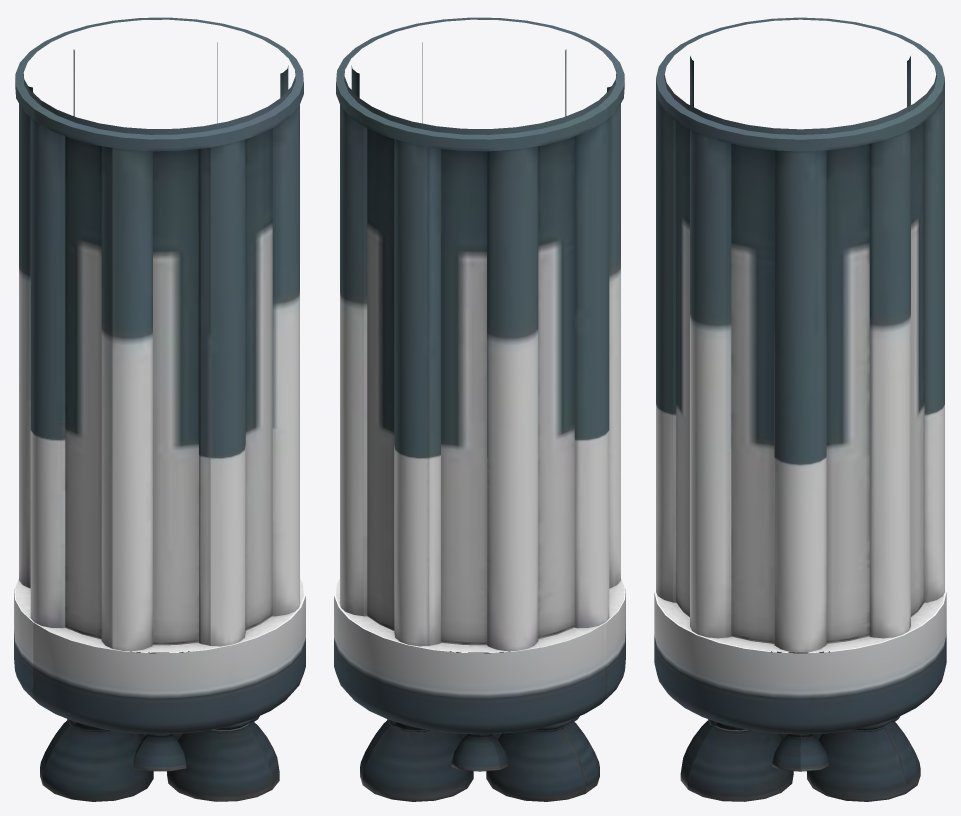
3 views of the same model, side by side, from view 1: azimuth 30°, elevation 25°; view 2: azimuth 150°, elevation 25°; view 3: azimuth 270°, elevation 25° (orthographic).
Parts seen in each view (by area): view 1: body0_model0_lod0_mesh1, body0_model0_lod0_mesh0; view 2: body0_model0_lod0_mesh1, body0_model0_lod0_mesh0; view 3: body0_model0_lod0_mesh1, body0_model0_lod0_mesh0.
Part boxes in pixels (bbox=[...]): body0_model0_lod0_mesh1: bbox=[15, 17, 303, 652]; body0_model0_lod0_mesh0: bbox=[14, 589, 305, 801]; body0_model0_lod0_mesh1: bbox=[336, 17, 624, 652]; body0_model0_lod0_mesh0: bbox=[334, 589, 625, 801]; body0_model0_lod0_mesh1: bbox=[656, 17, 944, 652]; body0_model0_lod0_mesh0: bbox=[654, 592, 946, 801].
Size of the model in its own units: 192 by 499 by 191.
Materials: 2 (2 with a texture image).
